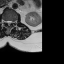CCS_normal: (8, 19, 10, 28)
LFS_stenosis: (12, 19, 14, 24)
LLS_normal: (10, 19, 12, 25)
RFS_normal: (4, 18, 6, 24)
RLS_normal: (6, 18, 8, 25)
